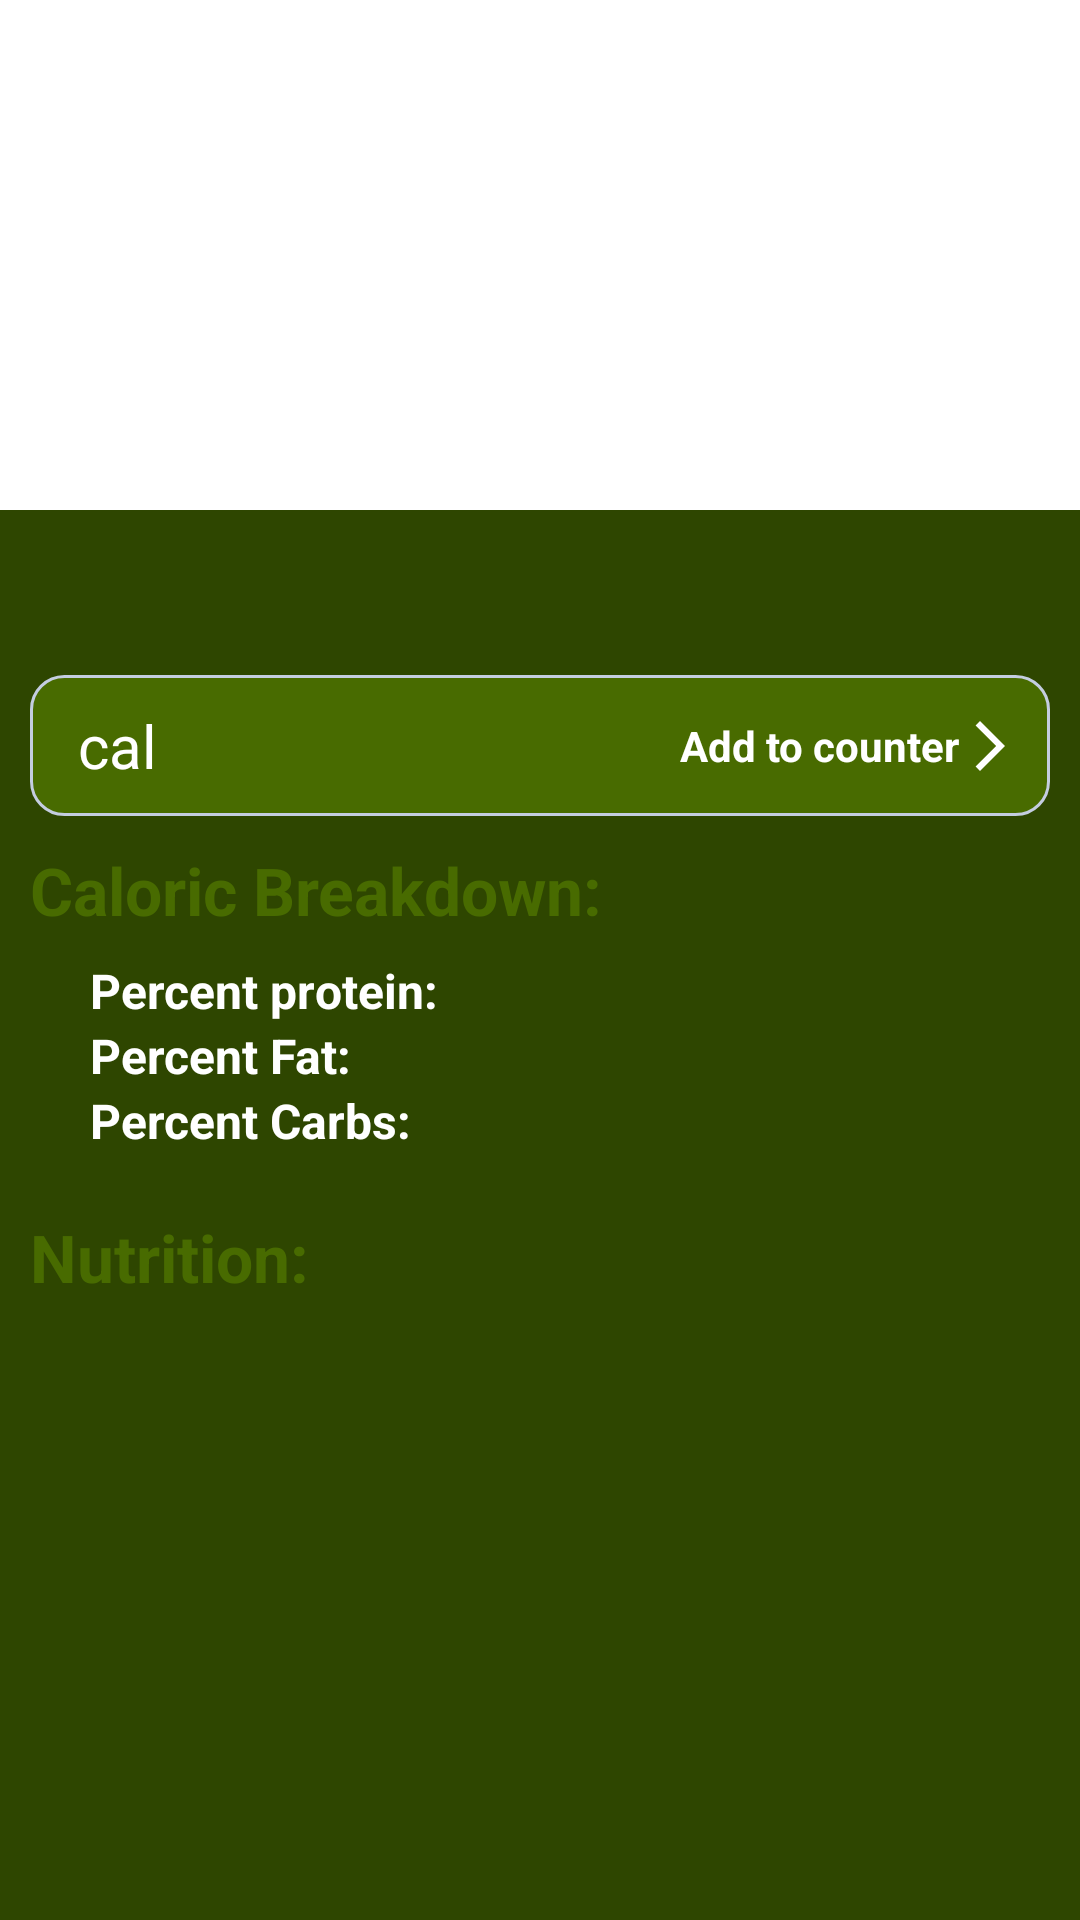

Locate icon controls on the screen. Image size 1080px×1920px, boxes as (x1, y1, x2, y2).
arrow forward: (975, 721, 1005, 771)
